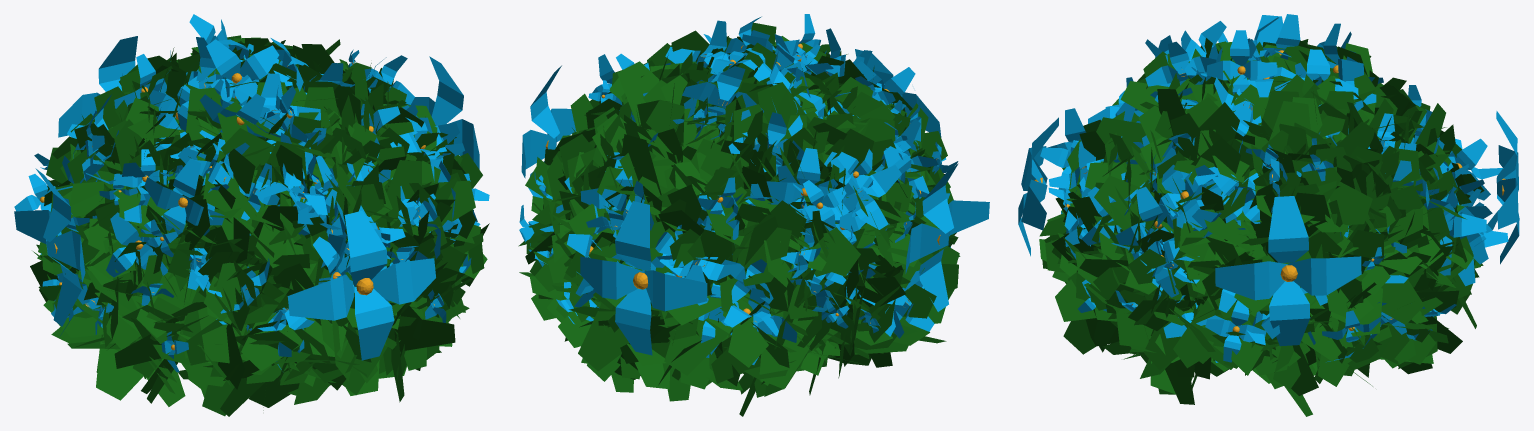
File: bushesFlowers.fbx
3 views of the same model, side by side, from view 1: azimuth 30°, elevation 25°; view 2: azimuth 150°, elevation 25°; view 3: azimuth 270°, elevation 25° (orthographic). The views are drawn at different scales.
Parts seen in each view (by area): view 1: Flower_Complete, Flower_Complete.003, Sphere.001|Flower_Complete|Dupli|144.1, Flower_Complete.001, Flower_Complete.002, Sphere.001|Flower_Complete|Dupli|176.1, Sphere.001|Flower_Complete|Dupli|4.1, Sphere.001|Flower|Dupli|7, Sphere.001|Flower|Dupli|602, Sphere.001|Flower|Dupli|140, Sphere.001|Flower|Dupli|442, Sphere.001|Flower|Dupli|542 (+104 smaller); view 2: Flower_Complete.002, Flower_Complete.003, Flower_Complete.001, Sphere.001|Flower_Complete|Dupli|305.1, Sphere.001|Flower|Dupli|440, Sphere.001|Flower|Dupli|694, Sphere.001|Flower_Complete|Dupli|68.1, Sphere.001|Flower_Complete|Dupli|233.1, Sphere.001|Flower|Dupli|180, Sphere.001|Flower|Dupli|57, Sphere.001|Flower|Dupli|403, Sphere.001|Flower|Dupli|94 (+87 smaller); view 3: Flower_Complete.001, Flower_Complete, Flower_Complete.002, Sphere.001|Flower_Complete|Dupli|40.1, Sphere.001|Flower_Complete|Dupli|67.1, Sphere.001|Flower_Complete|Dupli|185.1, Sphere.001|Flower_Complete|Dupli|213.1, Sphere.001|Flower|Dupli|367, Sphere.001|Flower|Dupli|47, Sphere.001|Flower|Dupli|276, Sphere.001|Flower_Complete|Dupli|211.1, Sphere.001|Flower|Dupli|435 (+90 smaller).
Boxes of the visible parts, x1,y1,x2,y2 form: Flower_Complete: [287, 210, 435, 360]; Flower_Complete.003: [14, 168, 85, 326]; Sphere.001|Flower_Complete|Dupli|144.1: [144, 158, 224, 234]; Flower_Complete.001: [408, 56, 479, 169]; Flower_Complete.002: [58, 36, 137, 137]; Sphere.001|Flower_Complete|Dupli|176.1: [206, 39, 279, 105]; Sphere.001|Flower_Complete|Dupli|4.1: [106, 212, 167, 277]; Sphere.001|Flower|Dupli|7: [141, 265, 248, 416]; Sphere.001|Flower|Dupli|602: [76, 271, 143, 400]; Sphere.001|Flower|Dupli|140: [388, 318, 455, 351]; Sphere.001|Flower|Dupli|442: [216, 262, 264, 416]; Sphere.001|Flower|Dupli|542: [112, 272, 247, 363]; Flower_Complete.002: [580, 201, 707, 355]; Flower_Complete.003: [905, 163, 989, 311]; Flower_Complete.001: [521, 65, 576, 198]; Sphere.001|Flower_Complete|Dupli|305.1: [828, 156, 901, 229]; Sphere.001|Flower|Dupli|440: [578, 303, 628, 371]; Sphere.001|Flower|Dupli|694: [664, 317, 733, 375]; Sphere.001|Flower_Complete|Dupli|68.1: [682, 66, 763, 115]; Sphere.001|Flower_Complete|Dupli|233.1: [766, 148, 846, 210]; Sphere.001|Flower|Dupli|180: [728, 298, 827, 367]; Sphere.001|Flower|Dupli|57: [617, 61, 659, 126]; Sphere.001|Flower|Dupli|403: [759, 328, 858, 389]; Sphere.001|Flower|Dupli|94: [819, 227, 860, 276]; Flower_Complete.001: [1215, 196, 1361, 346]; Flower_Complete: [1018, 117, 1058, 256]; Flower_Complete.002: [1496, 111, 1519, 264]; Sphere.001|Flower_Complete|Dupli|40.1: [1206, 30, 1277, 95]; Sphere.001|Flower_Complete|Dupli|67.1: [1157, 164, 1218, 231]; Sphere.001|Flower_Complete|Dupli|185.1: [1205, 300, 1266, 362]; Sphere.001|Flower_Complete|Dupli|213.1: [1145, 41, 1216, 86]; Sphere.001|Flower|Dupli|367: [1381, 271, 1424, 324]; Sphere.001|Flower|Dupli|47: [1086, 152, 1149, 310]; Sphere.001|Flower|Dupli|276: [1094, 175, 1154, 327]; Sphere.001|Flower_Complete|Dupli|211.1: [1115, 186, 1179, 245]; Sphere.001|Flower|Dupli|435: [1157, 218, 1217, 368].
Size of the model in its own units: 91.6 by 69.12 by 96.37.
